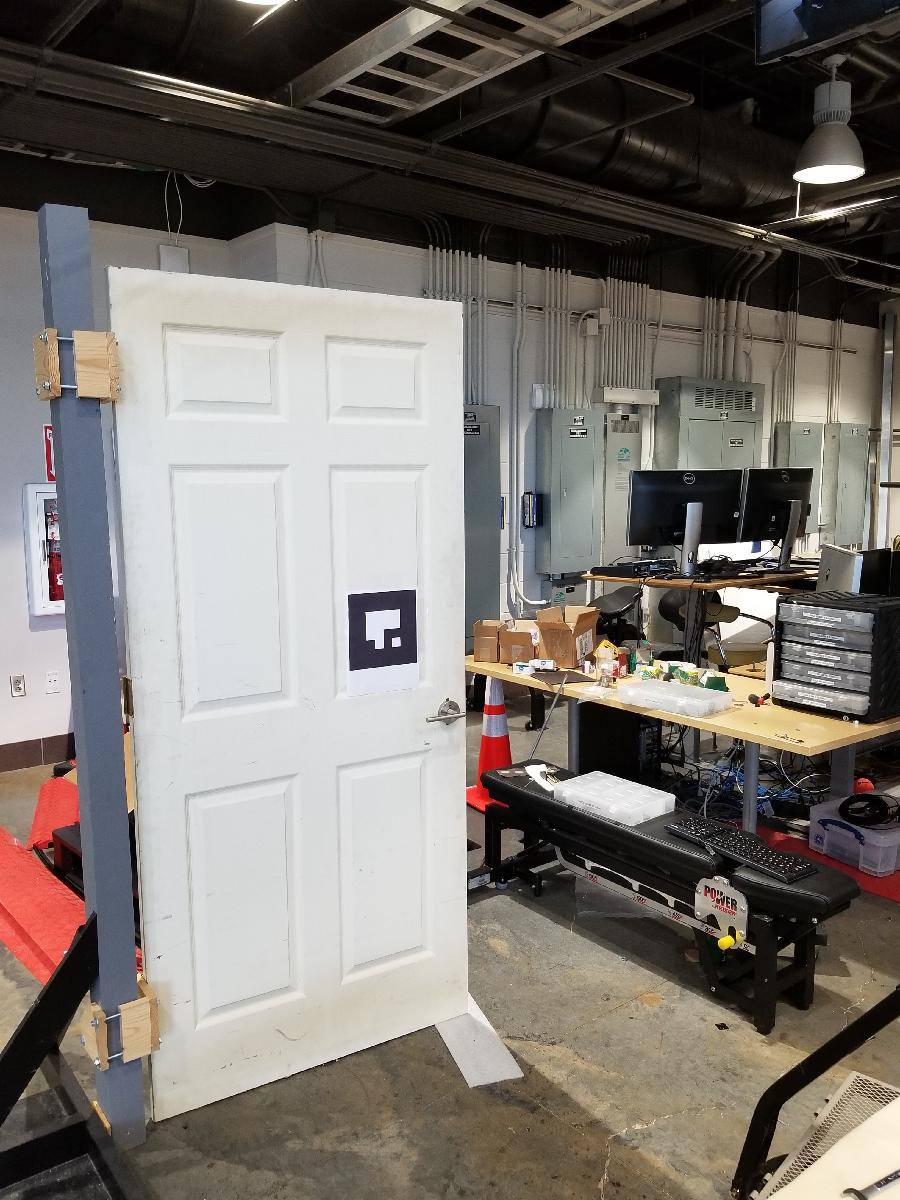door: (98, 262, 483, 1129)
doorHandle: (417, 698, 474, 733)
